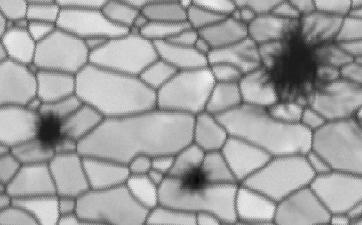good_void: (245, 6, 343, 115), (21, 106, 78, 161), (173, 152, 219, 204)
